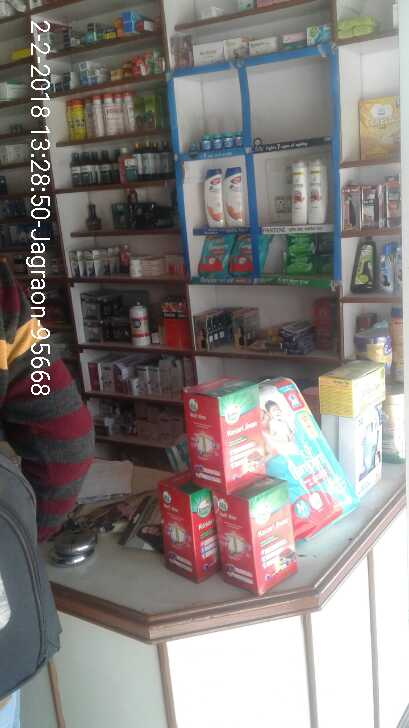vicks: (193, 129, 247, 158)
